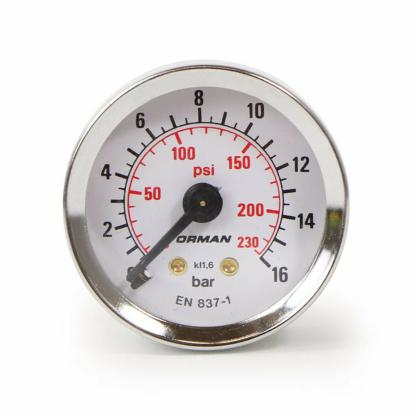needle: (126, 212, 195, 283)
